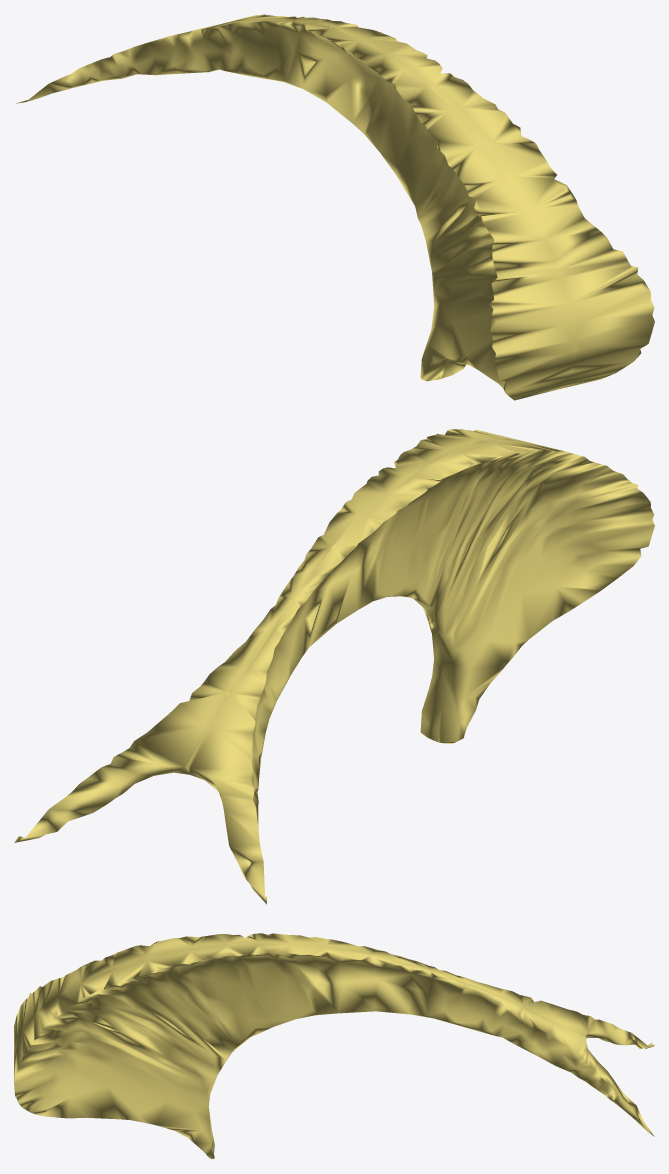
File: septum-pellucidum.glb
3 renders of one model, top to bottom at view 1: azimuth 30°, elevation 25°; view 2: azimuth 150°, elevation 25°; view 3: azimuth 270°, elevation 25°, orthographic. The views are drawn at different scales.
Parts seen in each view (by area): view 1: Septum pellucidum; view 2: Septum pellucidum; view 3: Septum pellucidum.
Boxes of the visible parts, x1,y1,x2,y2 form: Septum pellucidum: [16, 14, 654, 400]; Septum pellucidum: [14, 429, 654, 904]; Septum pellucidum: [14, 933, 654, 1159].
Size of the model in its own units: 0.0204 by 0.0222 by 0.0607.
